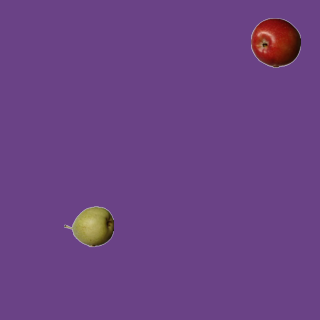Apple Braeburn: (250, 17, 300, 67)
Pear: (63, 201, 113, 251)
